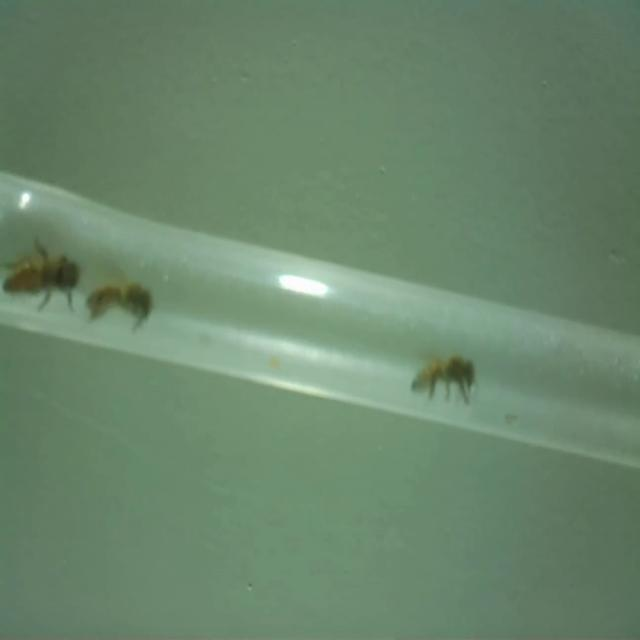Honeybee-Detection: (0, 236, 80, 311), (85, 261, 157, 332), (410, 352, 477, 404)
